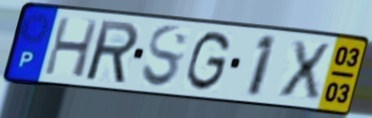1: (247, 33, 277, 101)
G: (183, 29, 233, 94)
H: (42, 15, 102, 80)
R: (85, 18, 141, 86)
S: (139, 23, 191, 91)
X: (276, 38, 333, 101)
